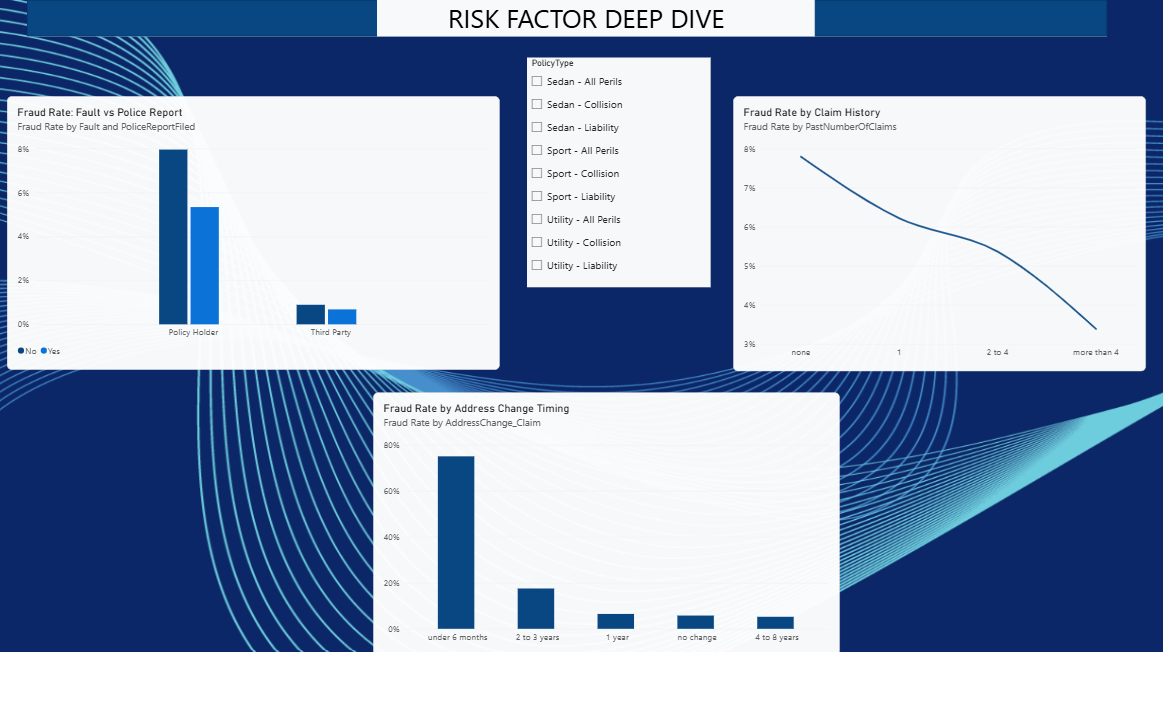

Layout of this report page (visuals, bound fields, positions):
{"tool":"powerbi","page":{"name":"Risk Factor Deep Dive","canvas":[1920,1080],"ordinal":1},"visuals":[{"type":"clusteredColumnChart","title":"Fraud Rate: Fault vs Police Report","fields":{"Category":["Claims.Fault"],"Series":["Claims.PoliceReportFiled"],"Y":["Claims.Fraud Rate"]},"box":[16.5,158.5,811,450.8],"z":0},{"type":"lineChart","title":"Fraud Rate by Claim History","fields":{"Category":["Claims.PastNumberOfClaims"],"Y":["Claims.Fraud Rate"]},"box":[1212.4,158.5,679.2,452.8],"z":1},{"type":"clusteredColumnChart","title":"Fraud Rate by Address Change Timing","fields":{"Category":["Claims.AddressChange_Claim"],"Y":["Claims.Fraud Rate"]},"box":[619.6,646.3,767.8,434.3],"z":2},{"type":"slicer","fields":{"Values":["Claims.PolicyType"]},"box":[872.7,94.7,302.6,378.7],"z":3},{"type":"shape","box":[49.4,0,1778.4,59.7],"z":4},{"type":"textbox","box":[625.7,0,720.4,59.7],"z":5}]}

Visuals, with their boxes on the page's 1920x1080 design canvas (x1, y1, x2, y2). These are canvas units, not pixel positions in the 1163x713 screenshot, which may show the page scaled, cropped or inside an application window:
"Fraud Rate: Fault vs Police Report" clusteredColumnChart: crop(16, 158, 828, 609)
"Fraud Rate by Claim History" lineChart: crop(1212, 158, 1892, 611)
"Fraud Rate by Address Change Timing" clusteredColumnChart: crop(620, 646, 1387, 1081)
slicer - Claims.PolicyType: crop(873, 95, 1175, 473)
shape: crop(49, 0, 1828, 60)
textbox: crop(626, 0, 1346, 60)
